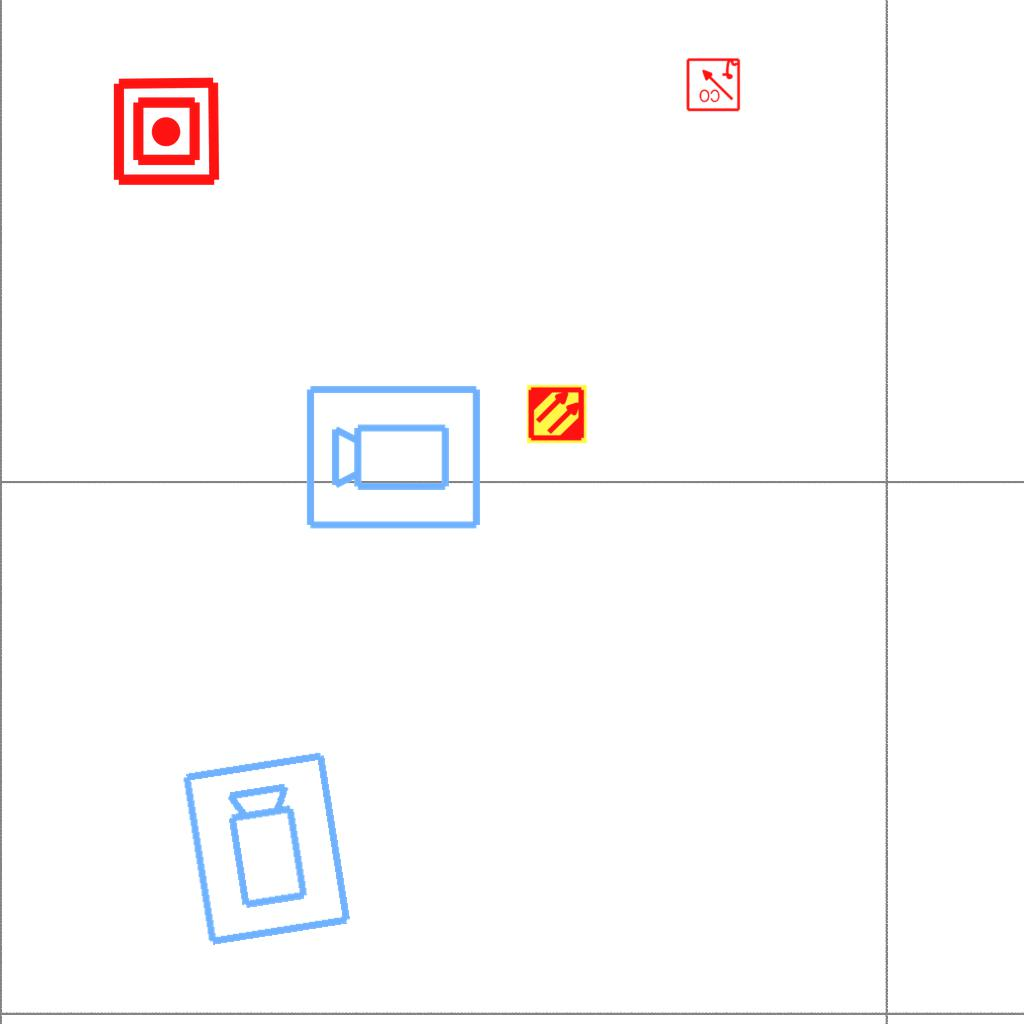ASR_Ansaugrauchmelder: (526, 383, 588, 445)
KFO_Kamera_mit_Festobjektiv: (177, 747, 359, 951), (303, 379, 485, 533)
NAM-Nichtautomatischer_Melder: (110, 75, 223, 188)
ROA_Rauchmelder_optisch_mit_Signalgeber_(Sockelsirene): (685, 56, 741, 112)
